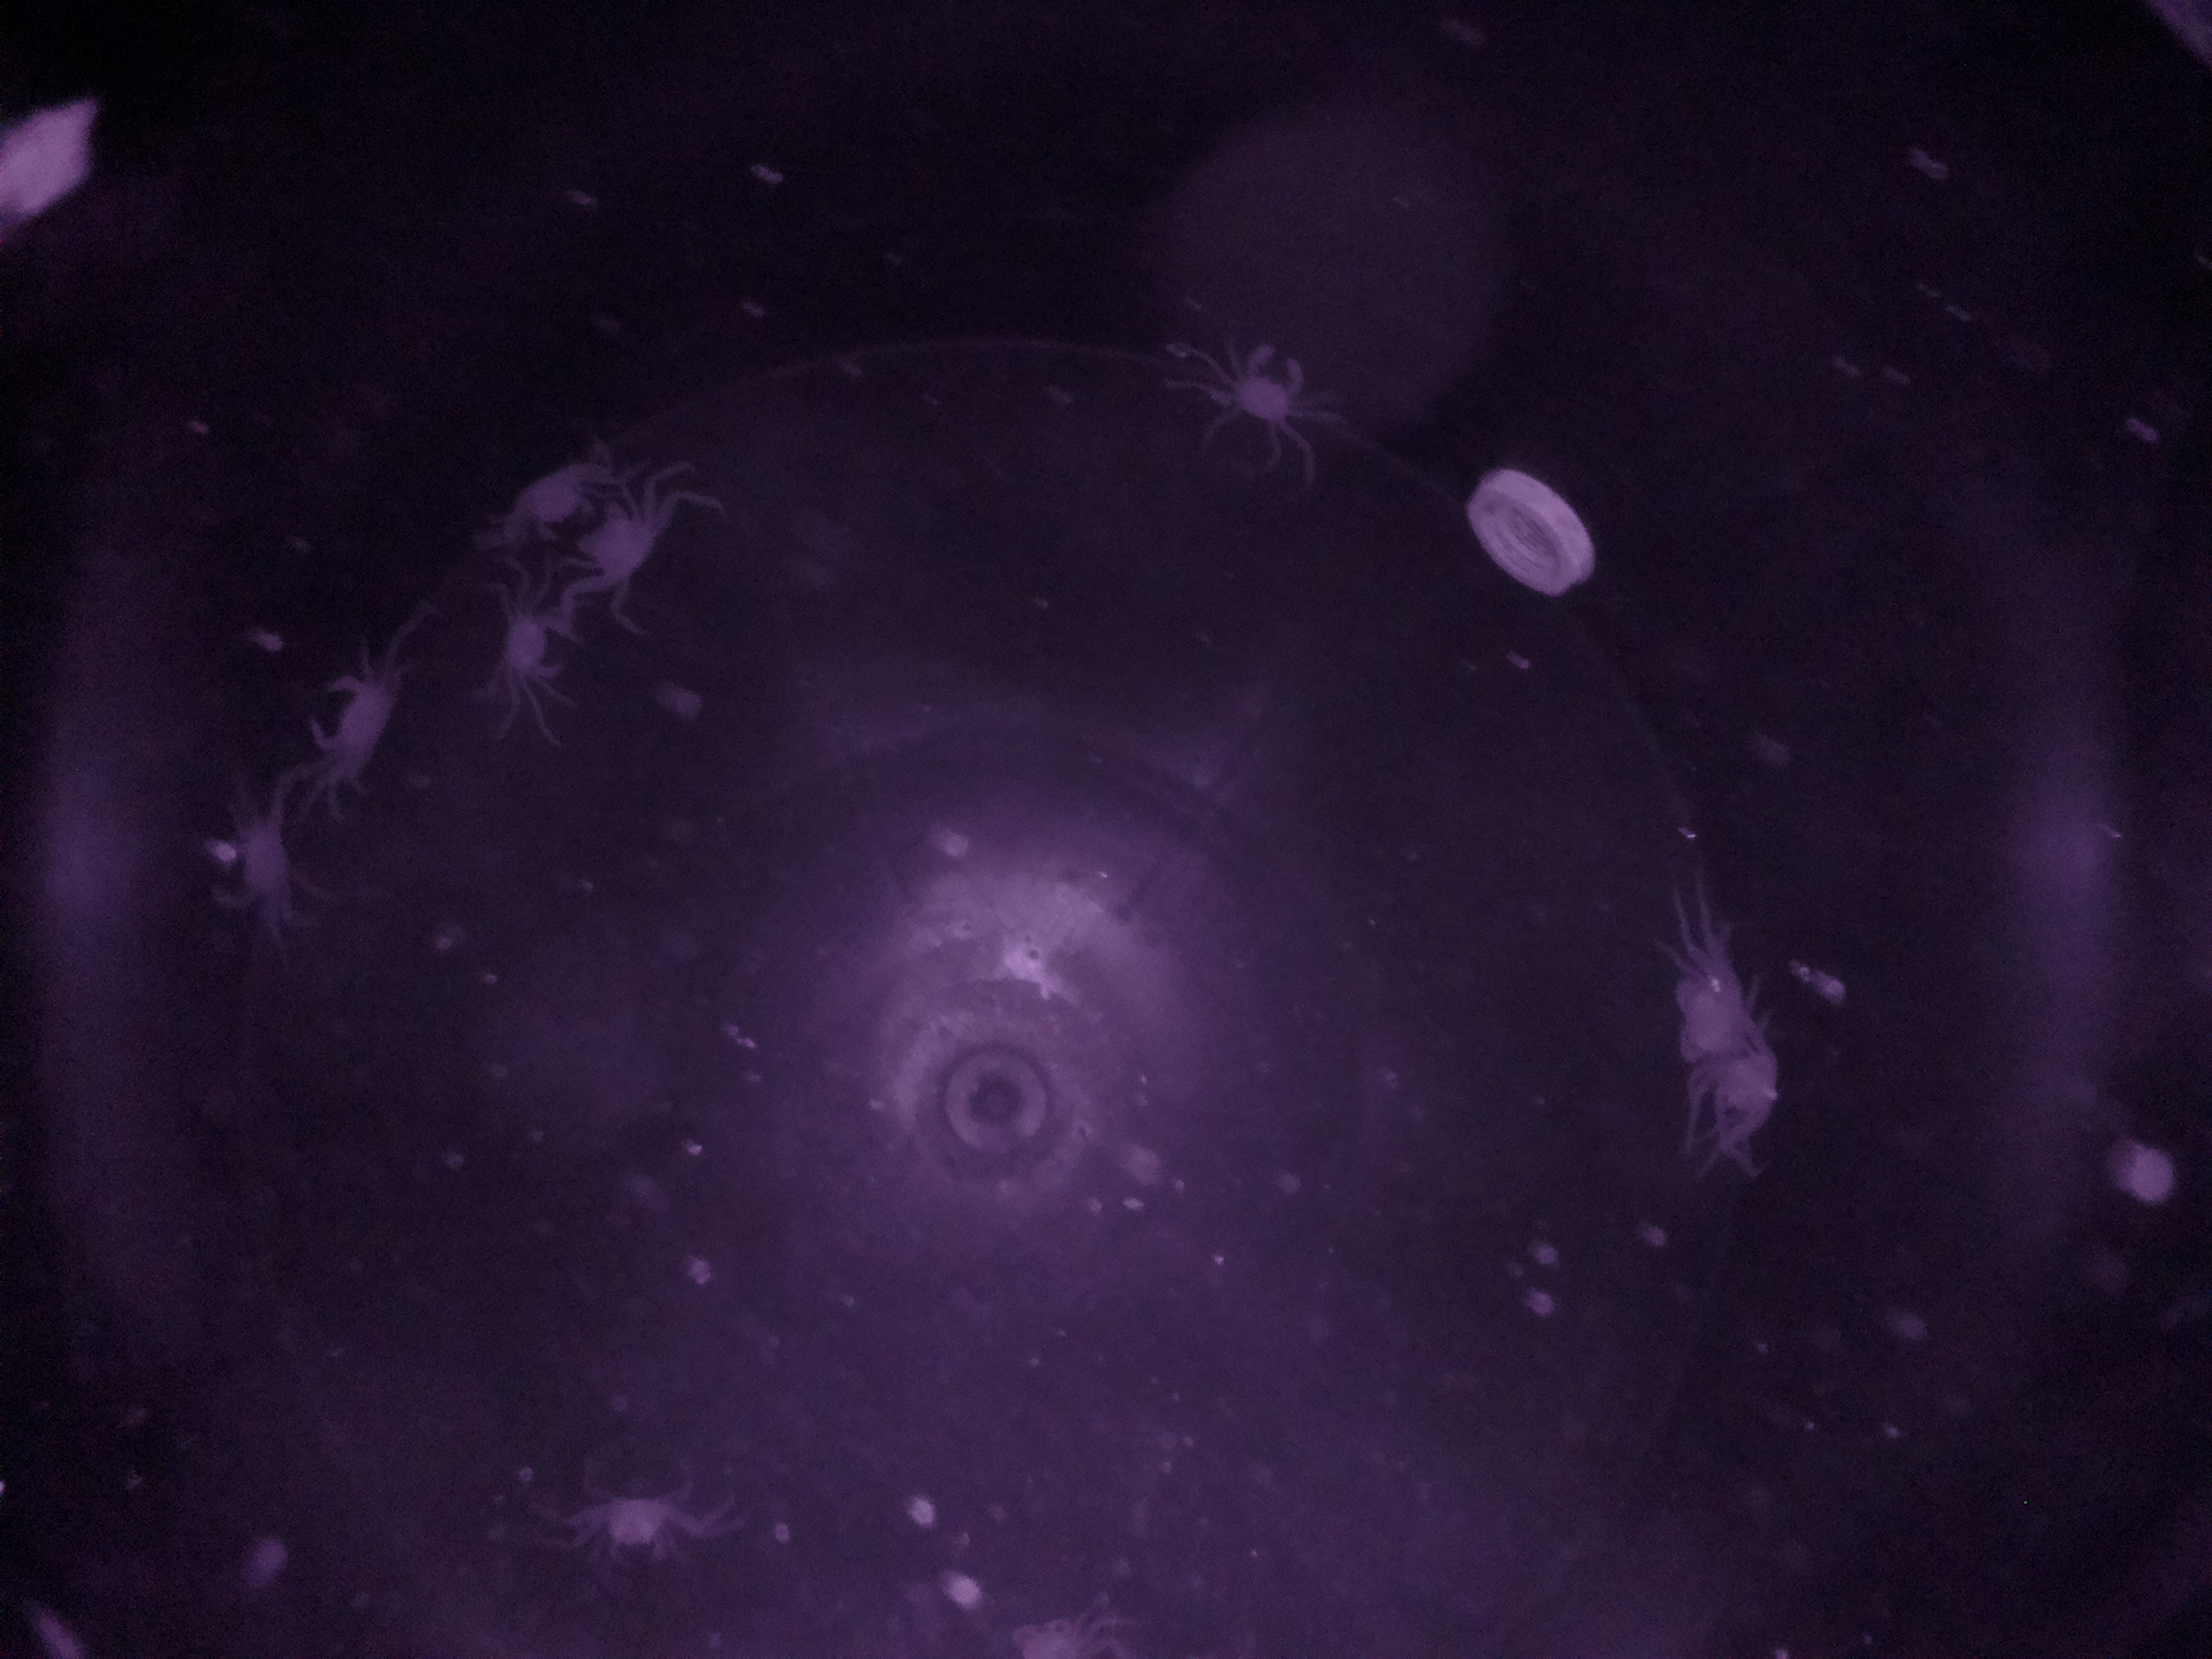Crab: (1653, 943, 1778, 1089), (296, 662, 427, 793), (566, 495, 693, 615), (1214, 312, 1318, 453), (570, 1474, 686, 1591), (472, 592, 577, 701)
